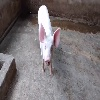heo: (36, 4, 62, 77)
